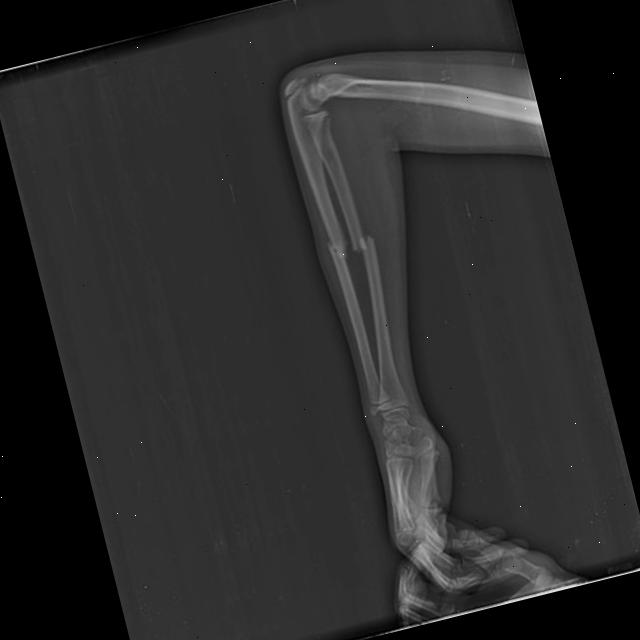Fracture: (345, 231, 377, 258), (322, 235, 349, 263)
